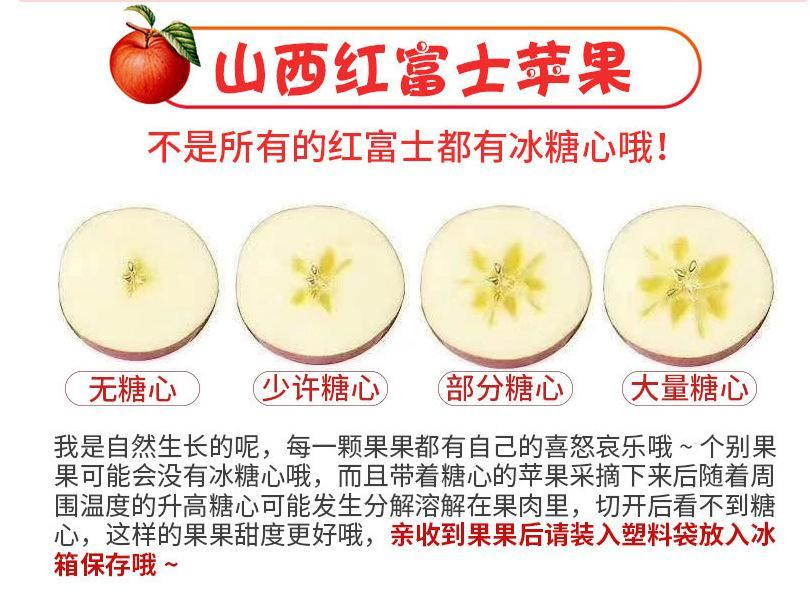apple: (109, 13, 195, 105)
